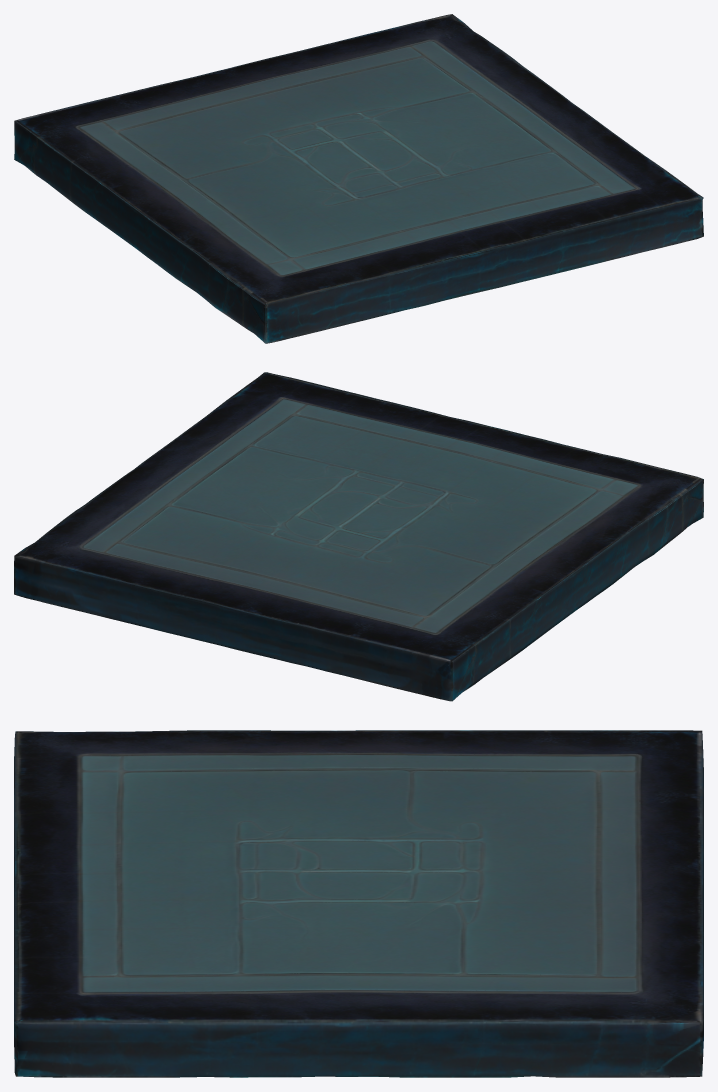
The model's file is A_floor_tile_a_perfe_0926201810_texture.fbx.
The picture shows the model from 3 angles, top to bottom: view 1: azimuth 30°, elevation 25°; view 2: azimuth 150°, elevation 25°; view 3: azimuth 270°, elevation 25°; orthographic projection. The views are drawn at different scales.
Parts seen in each view (by area): view 1: Mesh0; view 2: Mesh0; view 3: Mesh0.
Part boxes in pixels (x1,y1,x2,y2): Mesh0: (14,14,703,343); Mesh0: (14,372,703,701); Mesh0: (14,730,703,1077).
Size of the model in its own units: 191 by 47.75 by 190.
Materials: 1 (1 with a texture image).
